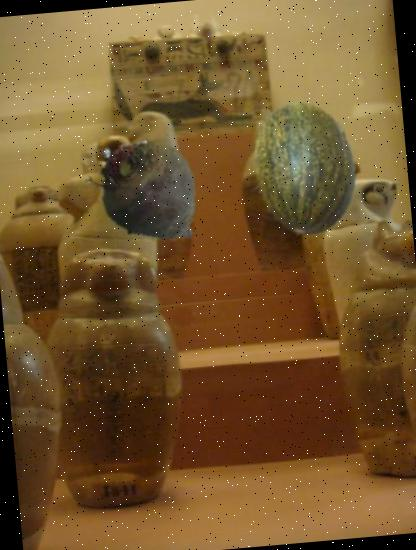Beetroot: (78, 118, 228, 268)
Melon: (232, 97, 376, 240)
